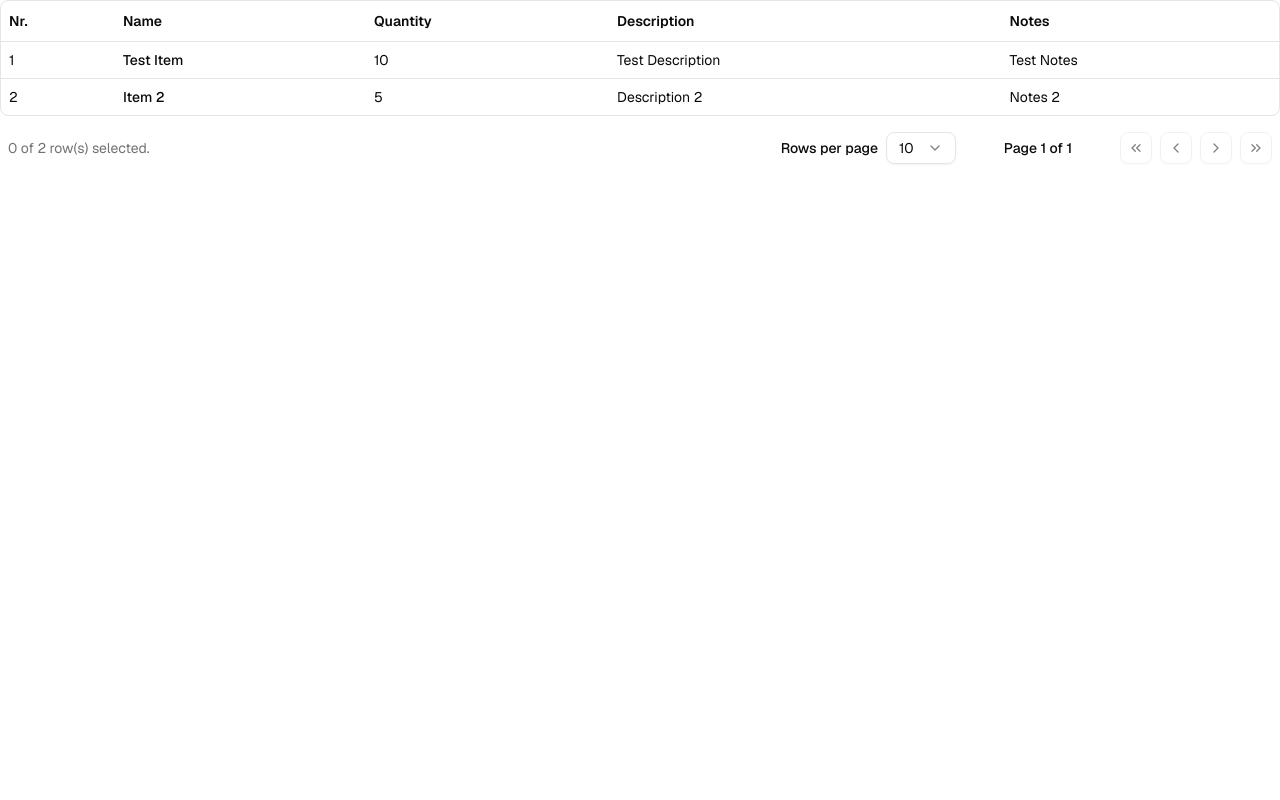
Test: ItemTable › should open edit dialog on double-click
The width and height of the screenshot is (1280, 800).
Double-click the text "Test Item" at (153, 60), box [123,50,183,68]
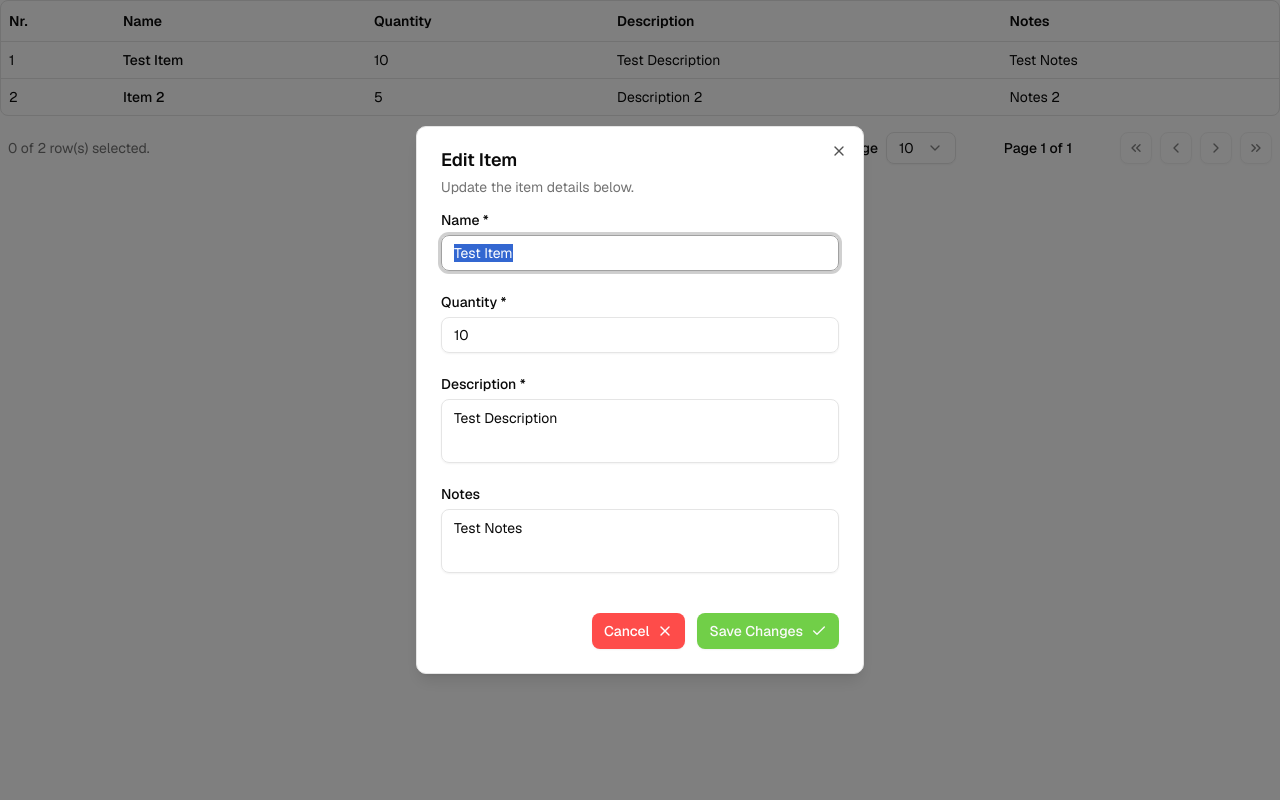
Now the heading "Edit Item" is shown, box [441,148,517,171]
Now the field showing "Test Item" is shown, box [441,235,839,271]
